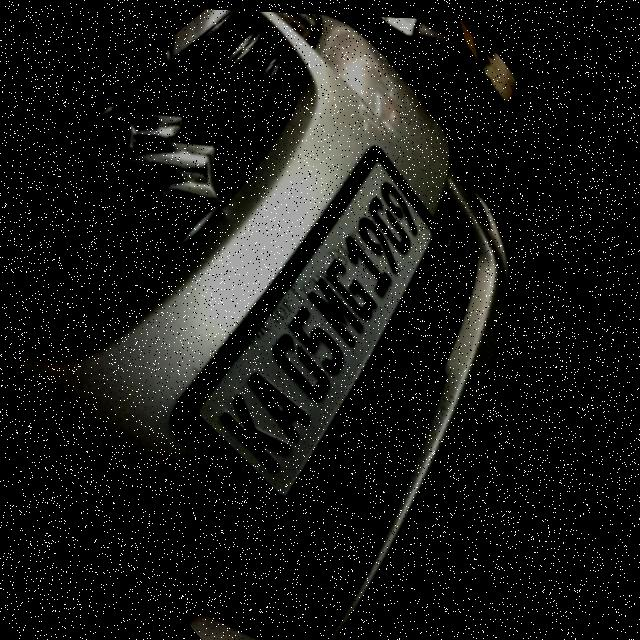license_plate: (135, 145, 525, 520)
